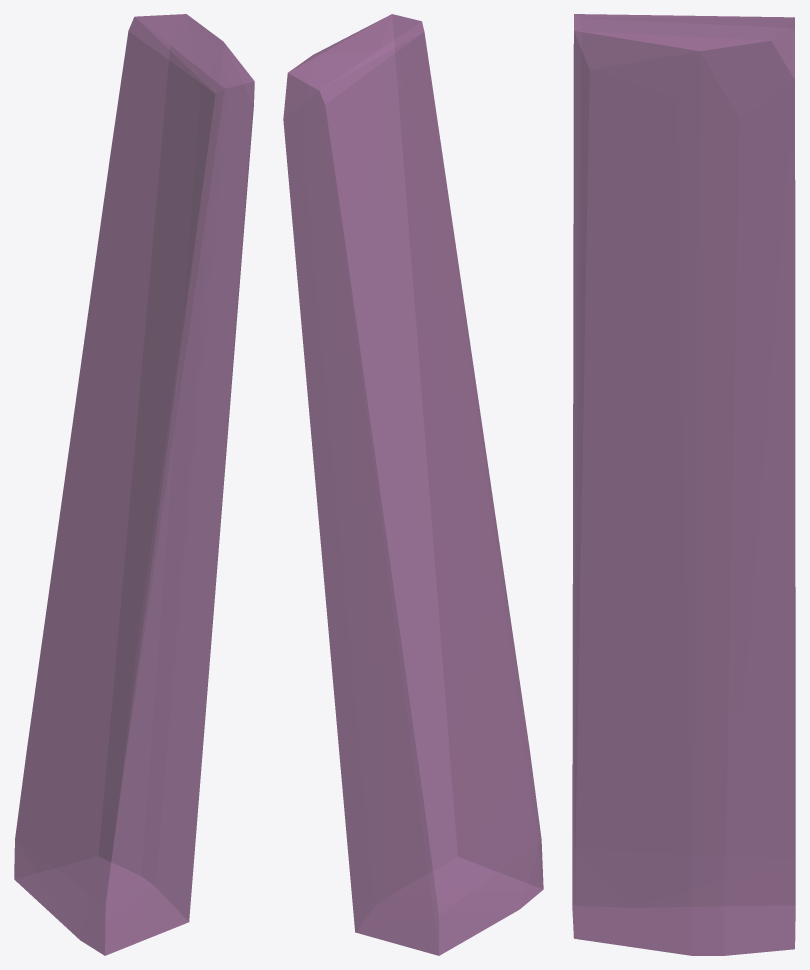
The picture shows the model from 3 angles, left to right: view 1: azimuth 30°, elevation 25°; view 2: azimuth 150°, elevation 25°; view 3: azimuth 270°, elevation 25°; orthographic projection. The views are drawn at different scales.
Visible parts, largest first — view 1: Shape_IndexedFaceSet.024_Shape_IndexedFaceSet.8303; view 2: Shape_IndexedFaceSet.024_Shape_IndexedFaceSet.8303; view 3: Shape_IndexedFaceSet.024_Shape_IndexedFaceSet.8303.
Boxes of the visible parts, left/top/right/bottom form: Shape_IndexedFaceSet.024_Shape_IndexedFaceSet.8303: left=14, top=14, right=254, bottom=955; Shape_IndexedFaceSet.024_Shape_IndexedFaceSet.8303: left=283, top=14, right=543, bottom=955; Shape_IndexedFaceSet.024_Shape_IndexedFaceSet.8303: left=572, top=14, right=795, bottom=955.
Size of the model in its own units: 0.1846 by 0.847 by 0.1784.
